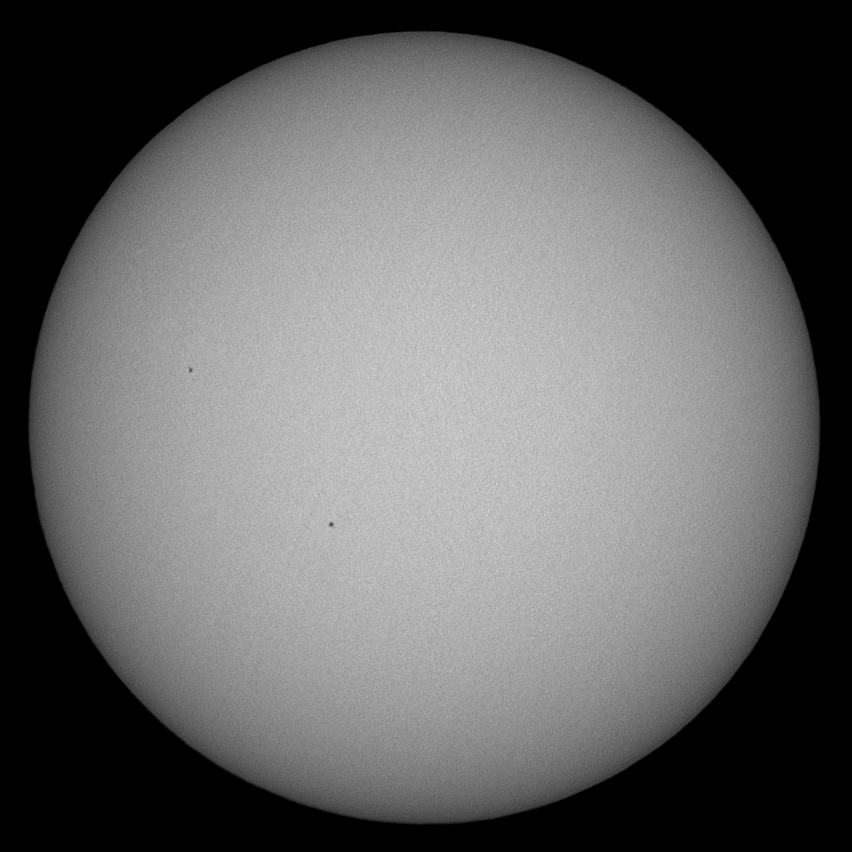sunspot: (185, 362, 198, 377), (326, 517, 337, 531)
